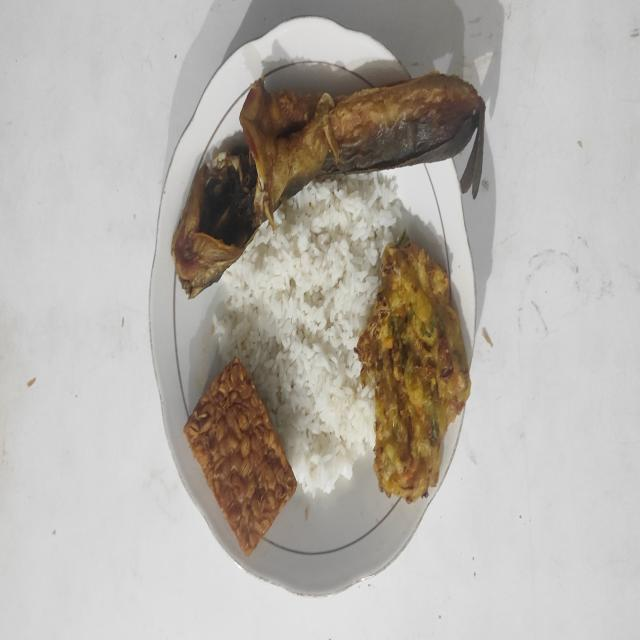nasi_putih: (214, 172, 402, 498)
tempe_goreng: (184, 358, 297, 556)
